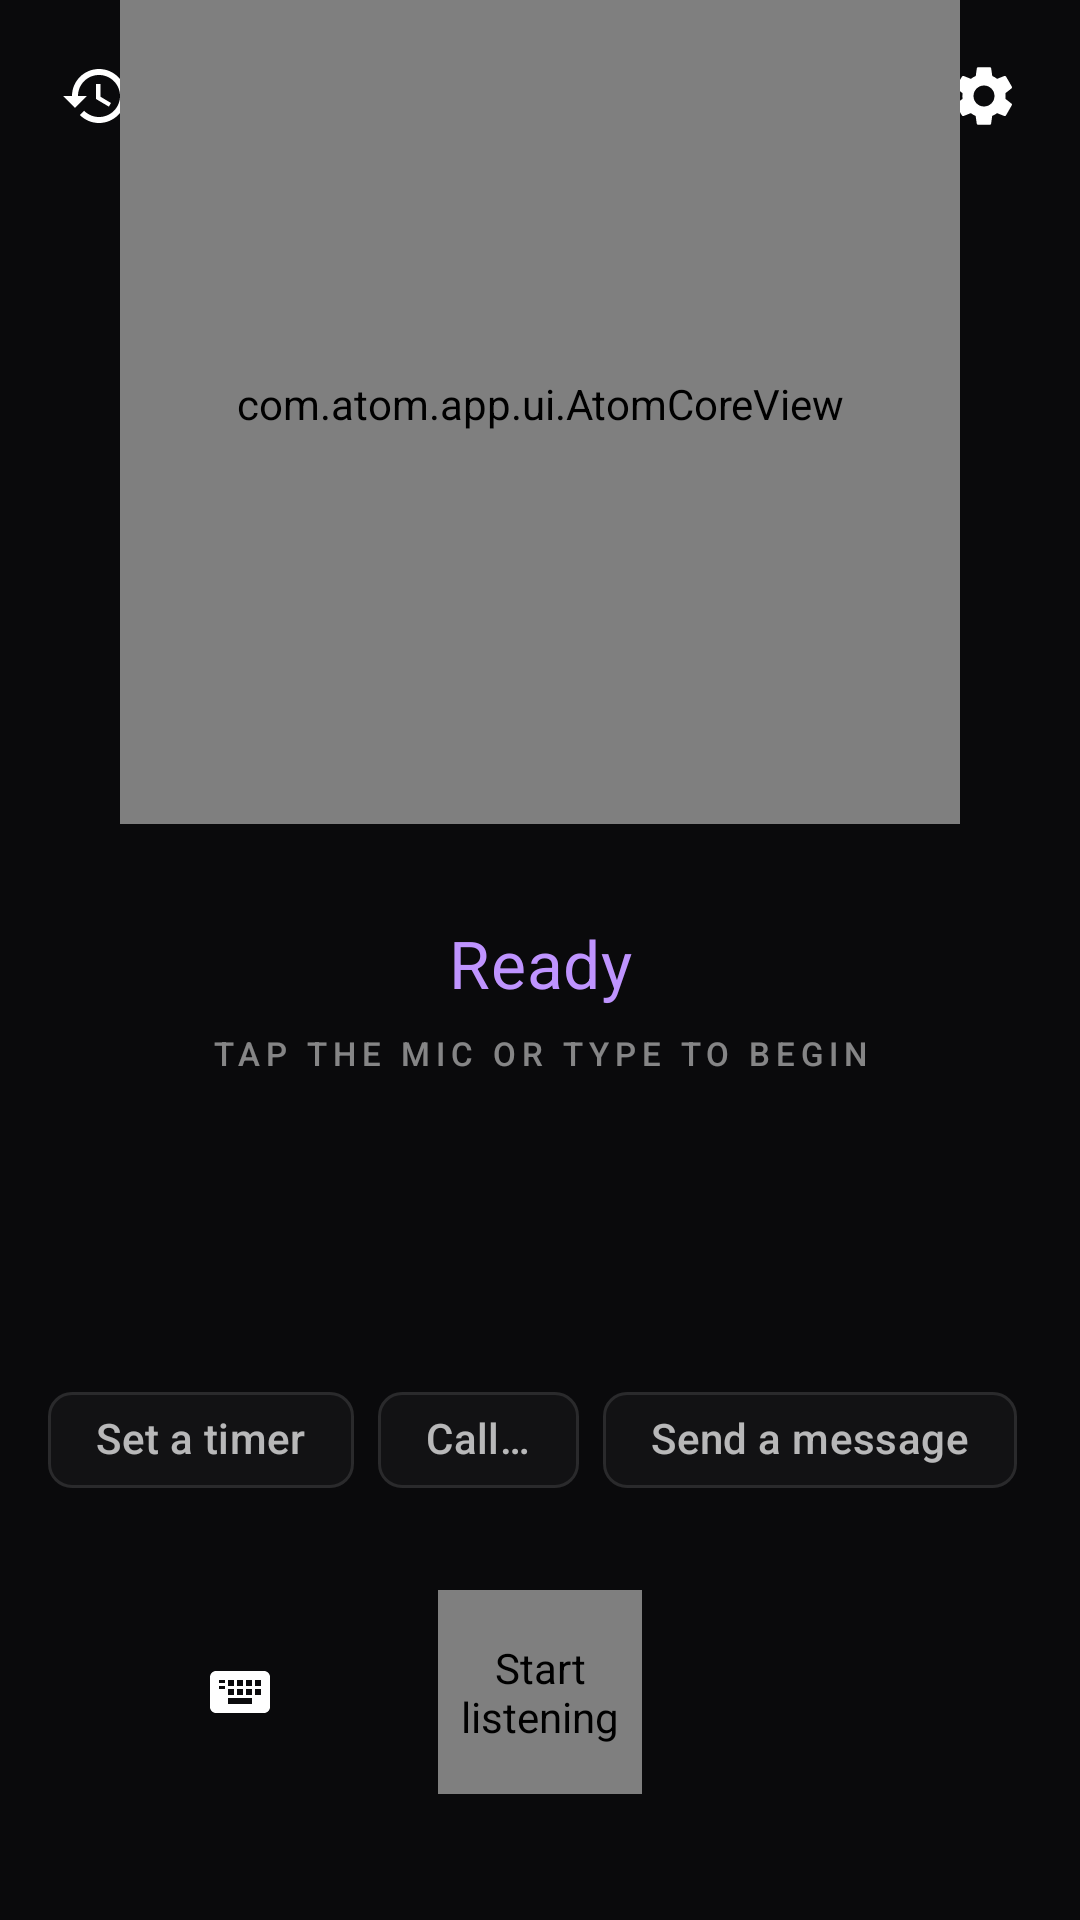

Icons on this 1080×1920 Android screen, each with its box as (left=x1, top=y1, right=x2, bottom=y2):
Type a message: (left=210, top=1671, right=270, bottom=1713)
